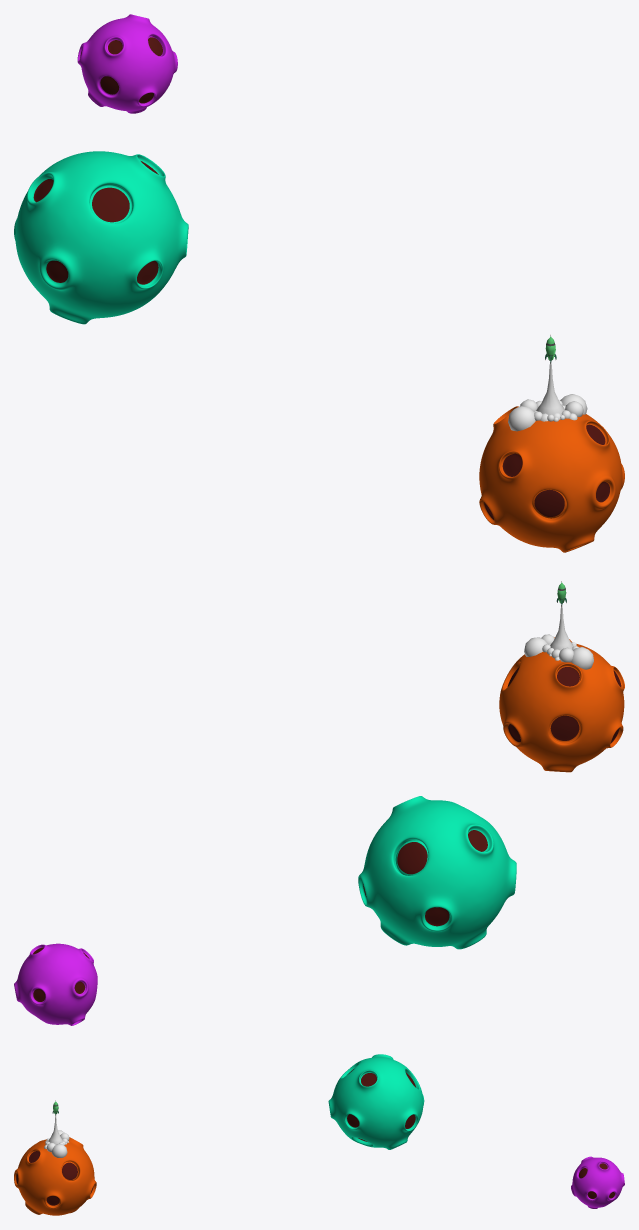
Rendered from tutorial1.glb.
The picture shows the model from 3 angles, top to bottom: view 1: azimuth 30°, elevation 25°; view 2: azimuth 150°, elevation 25°; view 3: azimuth 270°, elevation 25°; orthographic projection. The views are drawn at different scales.
Visible parts, largest first — view 1: Planet.001, Planet, Planet.002; view 2: Planet.001, Planet, Planet.002; view 3: Planet.001, Planet, Planet.002.
Part boxes in pixels (x1,y1,x2,y2): Planet.001: [14, 151, 188, 324]; Planet: [479, 406, 624, 552]; Planet.002: [77, 14, 177, 113]; Planet.001: [358, 796, 516, 949]; Planet: [499, 637, 624, 772]; Planet.002: [14, 943, 97, 1025]; Planet.001: [328, 1054, 424, 1149]; Planet: [14, 1137, 96, 1215]; Planet.002: [571, 1156, 624, 1208].
Size of the model in its own units: 16.6 by 9.53 by 46.38.
